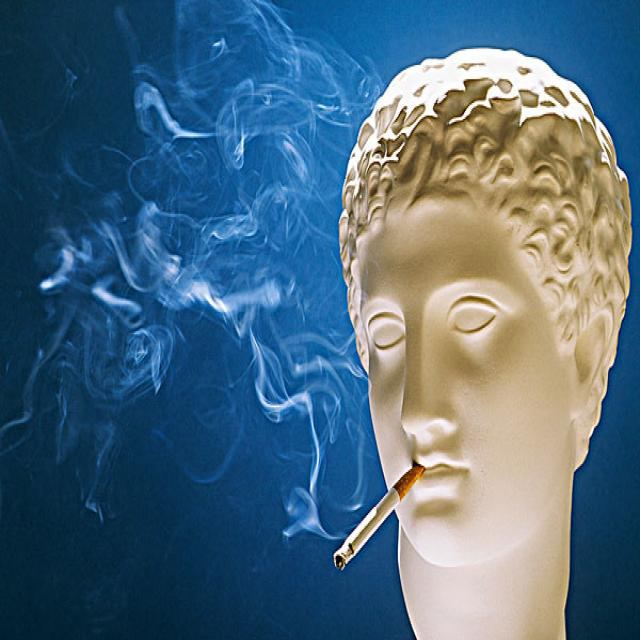smoking: (333, 457, 427, 574)
